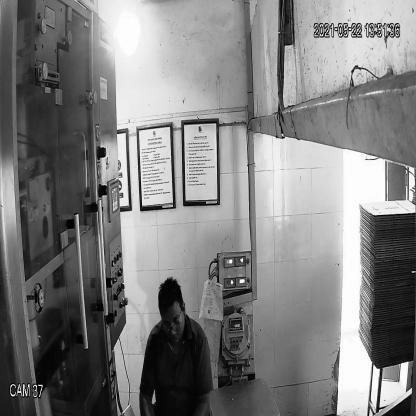goggles: (158, 307, 184, 335)
